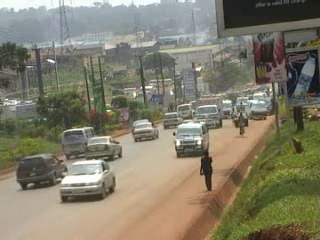Car: (59, 158, 116, 202), (15, 153, 68, 190), (83, 136, 125, 162), (130, 121, 161, 141), (129, 116, 153, 134), (163, 111, 181, 130)
Motorcycle: (227, 107, 238, 125)
